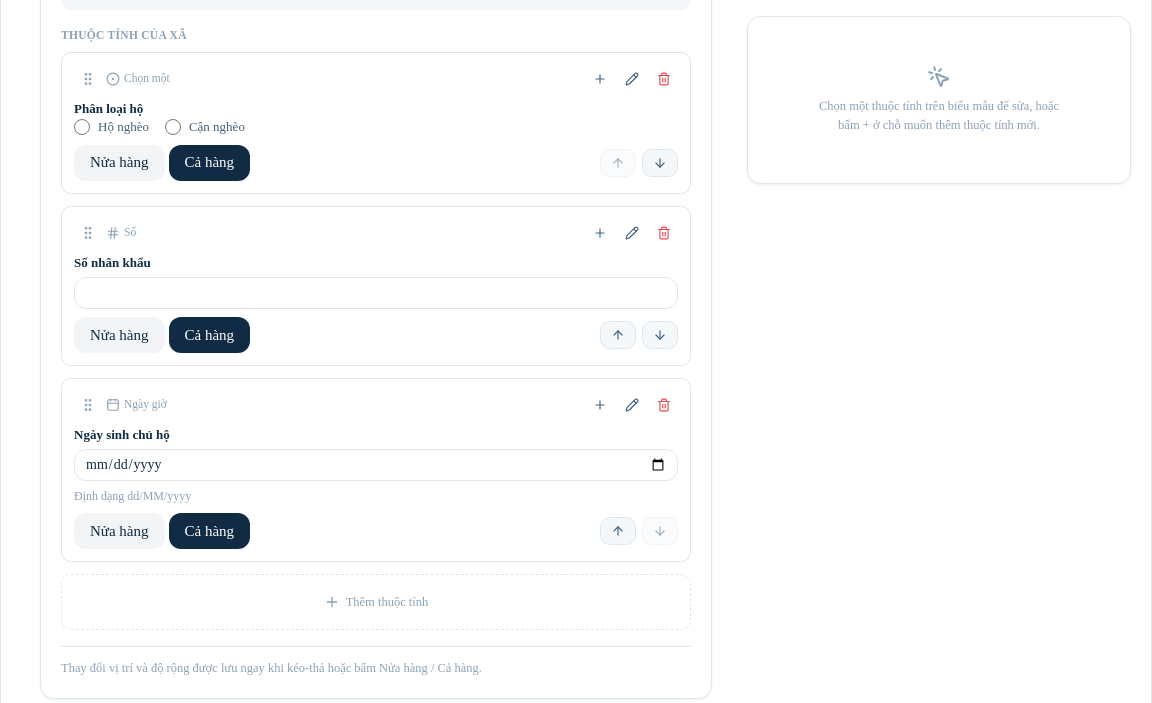
Test: add dialog — random code › a random code the commune already holds (deleted included) is redrawn silently at open
The image size is (1152, 703).
(page scrolled)
Click the button "Thêm thuộc tính" at (376, 602), box [61,574,691,630]
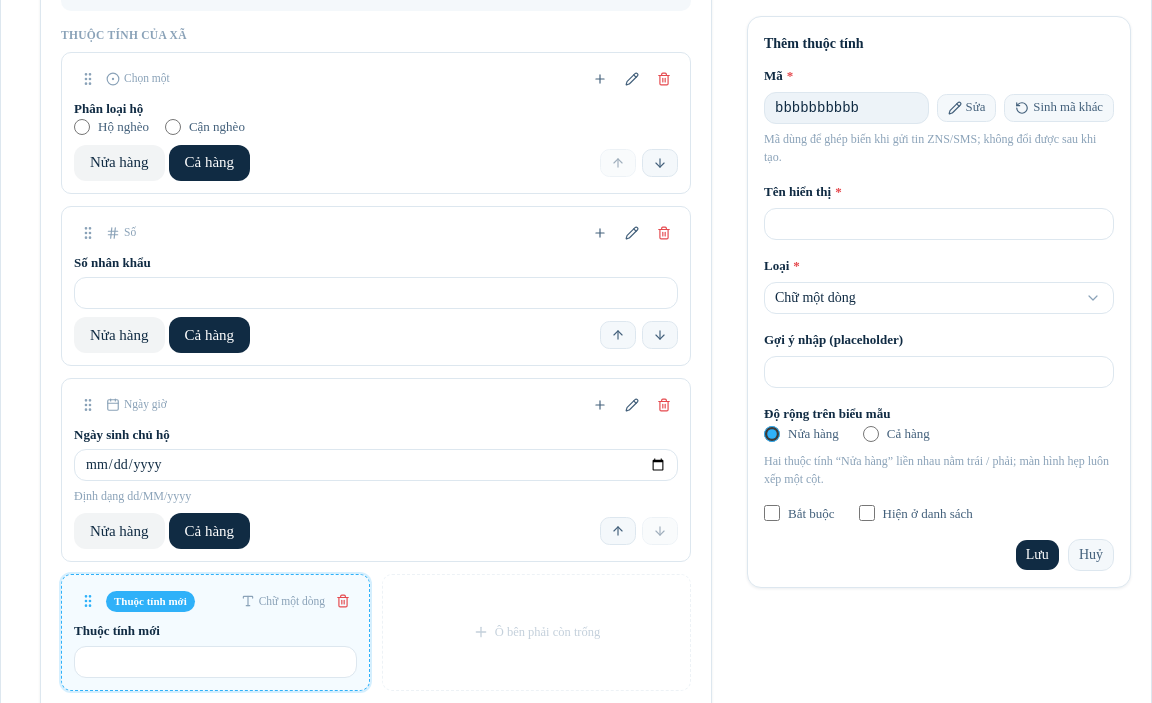
Expected: the field with id "citizen-field-code" holds "bbbbbbbbbb", [764,92,929,124]
